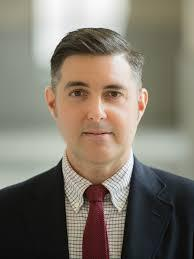person: (41, 23, 159, 176)
